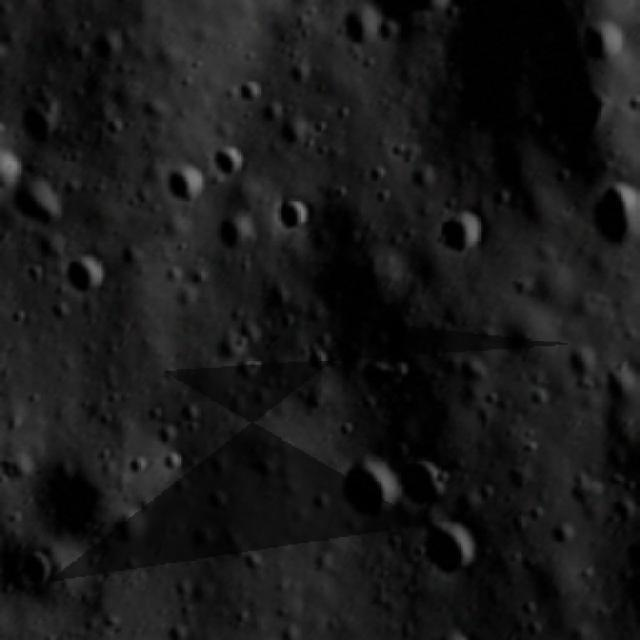crater: (33, 444, 112, 547), (420, 514, 485, 583), (338, 453, 396, 529), (589, 182, 640, 250), (14, 176, 64, 239), (433, 206, 489, 262), (395, 458, 448, 509), (576, 15, 629, 66), (61, 252, 110, 305), (334, 4, 384, 53), (14, 547, 58, 602), (18, 100, 62, 152), (207, 139, 256, 184), (166, 160, 208, 211), (361, 355, 412, 396), (105, 510, 150, 556), (217, 210, 255, 259), (276, 193, 312, 238), (88, 31, 129, 67), (382, 315, 418, 353), (172, 406, 208, 442), (379, 435, 413, 471), (200, 482, 234, 516), (238, 71, 264, 106), (156, 425, 182, 458), (158, 449, 184, 478), (128, 452, 150, 480)
